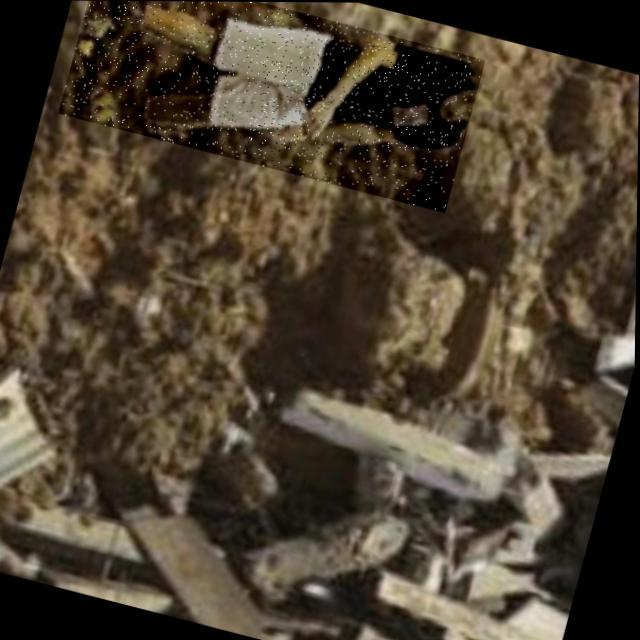Person in Rubble: (56, 0, 484, 212)
